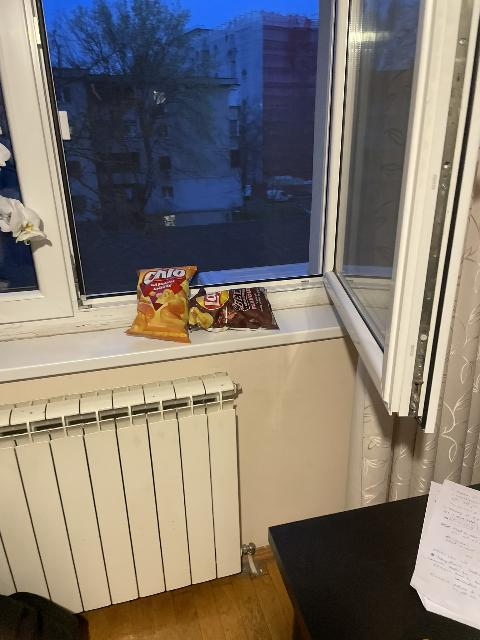Chio Cascaval 125g: (126, 266, 197, 341)
Lays Beef Grilled Ribs 125g: (189, 287, 281, 333)
